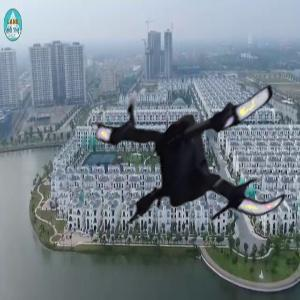drone: (75, 45, 298, 268)
